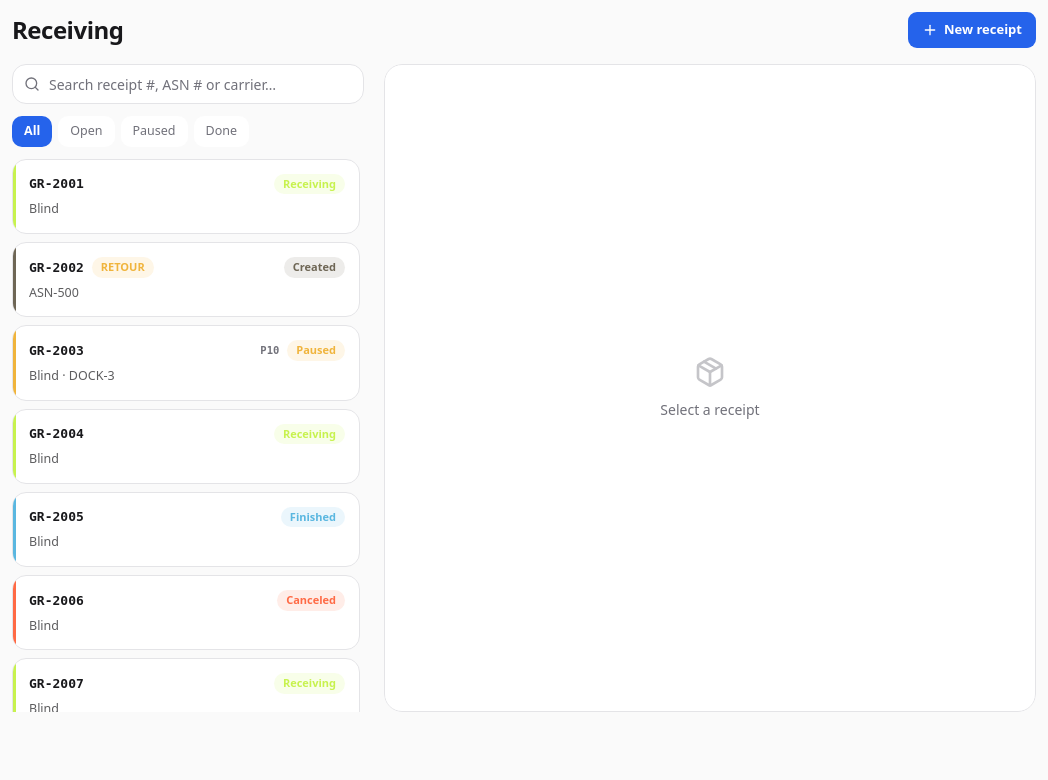
ReceivingPage › detail pane shows claim state and B7 header fields
Click the button with test id "receipt-row-3". click: click(56, 350)
box: [12,325,360,401]
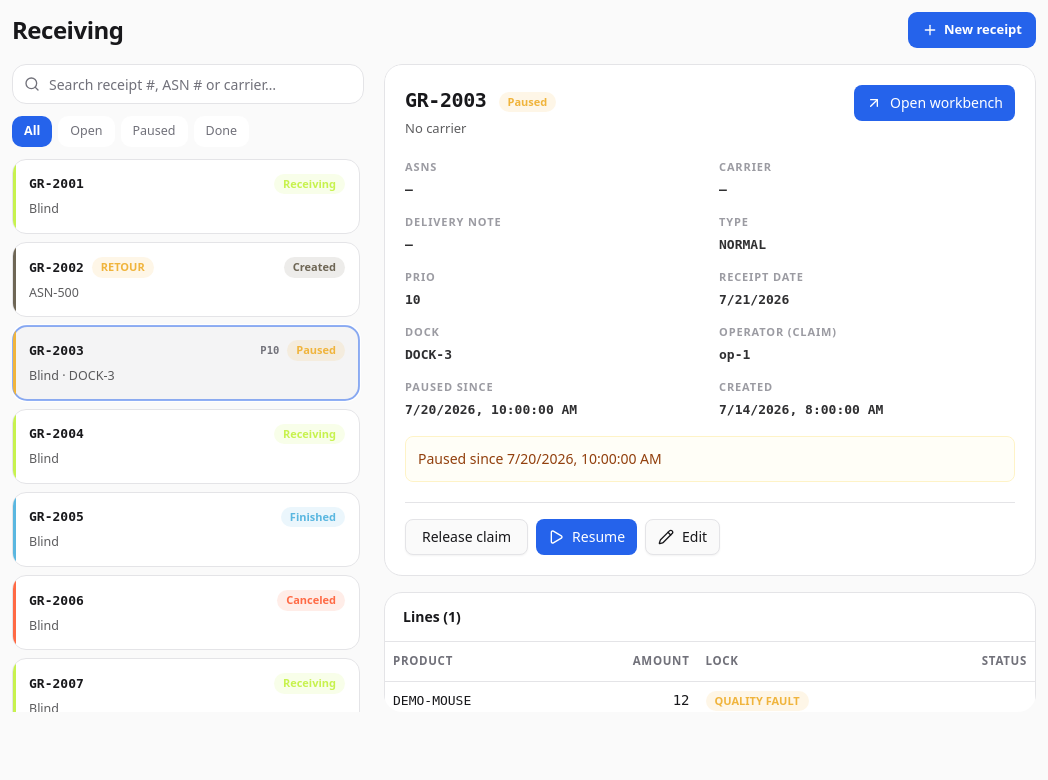
Now the text "op-1" is shown, box [719,347,750,362]
Now the text "10" is shown, box [405,292,421,307]
Now the text "DOCK-3" is shown, box [405,347,452,362]
